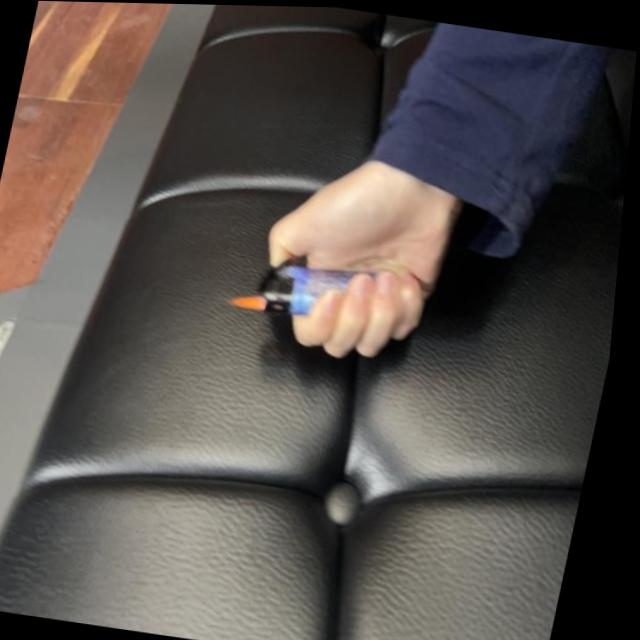Fire: (227, 288, 276, 312)
